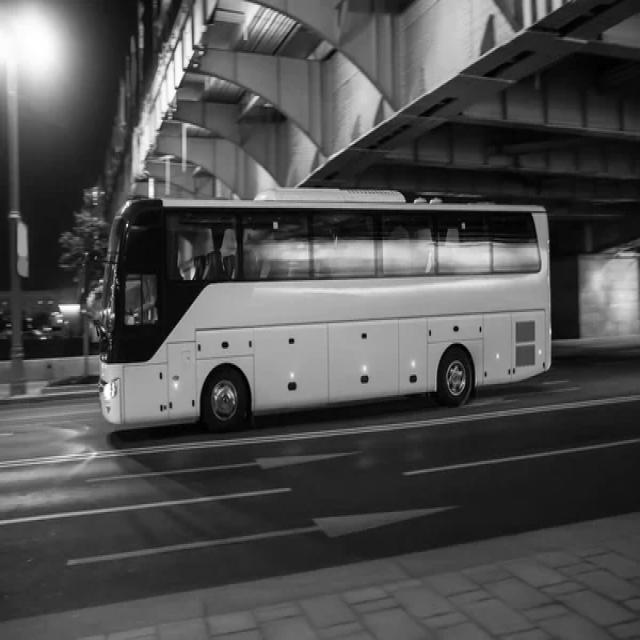Bus: (100, 189, 552, 430)
